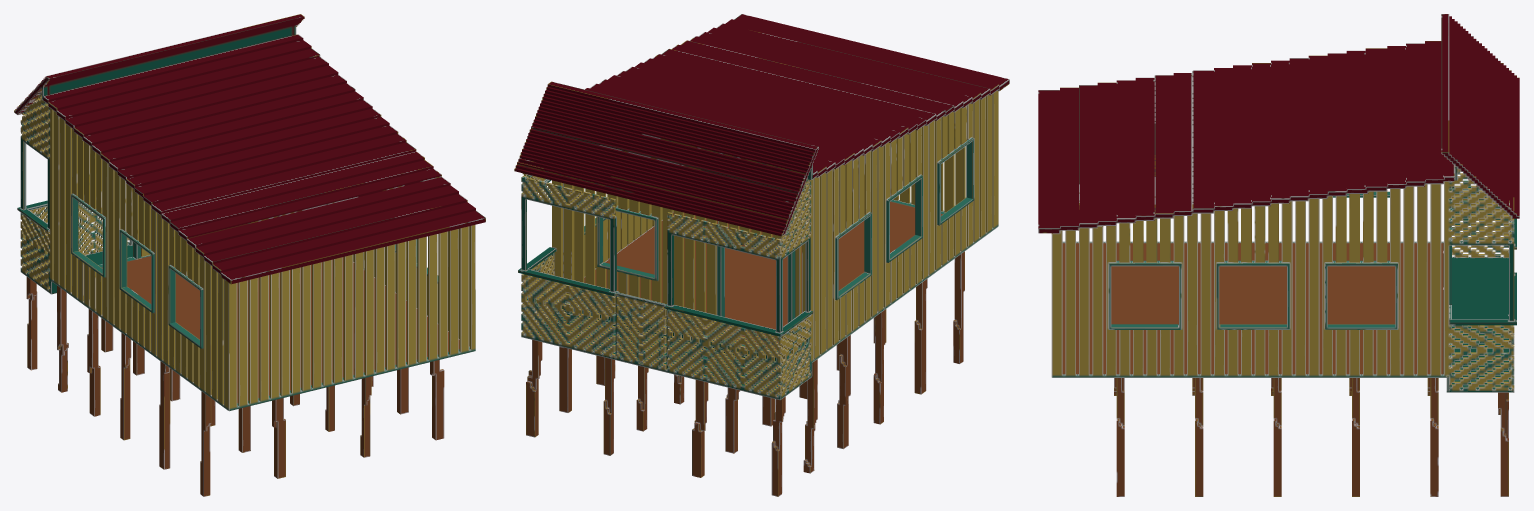
File: Palafita2.fbx
The picture shows the model from 3 angles, left to right: view 1: azimuth 30°, elevation 25°; view 2: azimuth 150°, elevation 25°; view 3: azimuth 270°, elevation 25°; orthographic projection. The views are drawn at different scales.
Parts seen in each view (by area): view 1: Palafita2.001; view 2: Palafita2.001; view 3: Palafita2.001.
Part boxes in pixels (x1,y1,x2,y2): Palafita2.001: (14, 14, 485, 496); Palafita2.001: (514, 14, 1009, 496); Palafita2.001: (1038, 14, 1519, 496).
Bounding box in the file's own units: 12.1 × 14.2 × 17.8.
1 material, 1 textured.
